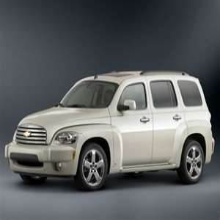no damage: (6, 70, 216, 190)
